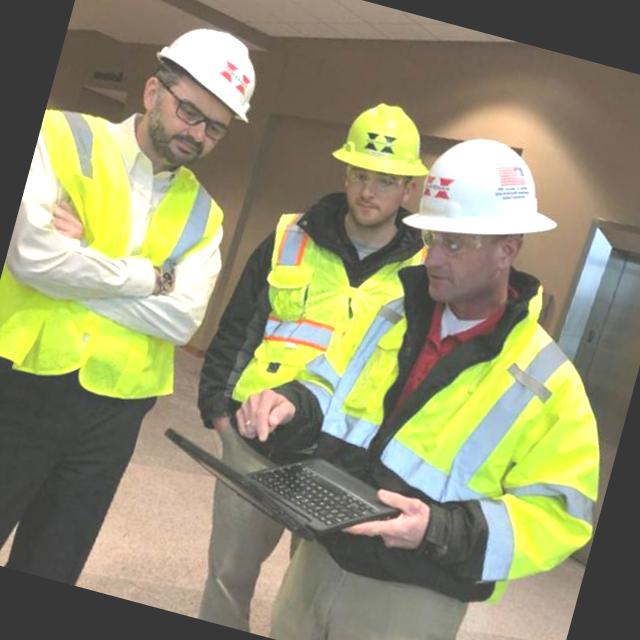helmet: (394, 114, 590, 260), (134, 15, 284, 142), (325, 88, 441, 195)
vest: (294, 254, 588, 580), (0, 101, 242, 442), (230, 197, 420, 442)
